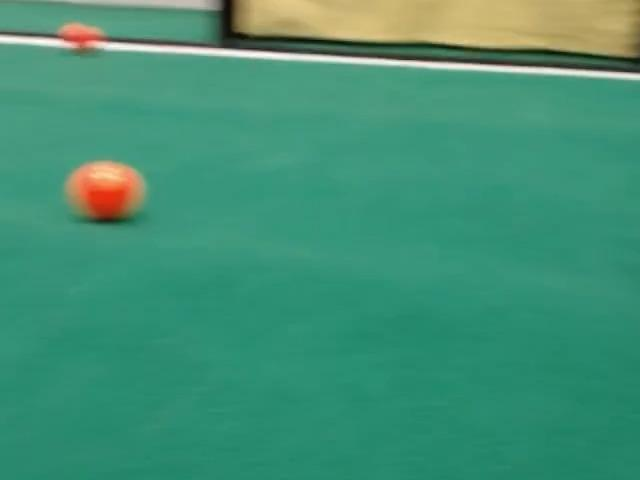Ball: (65, 161, 145, 220)
